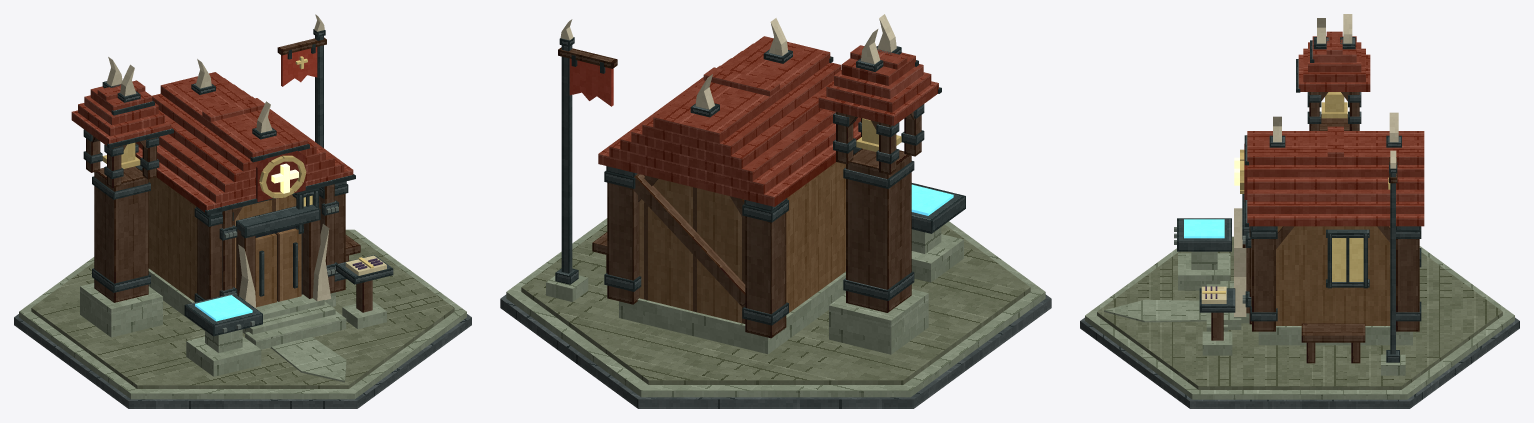
Rendered from orc_sacred_temple_hex_v1.glb.
3 views of the same model, side by side, from view 1: azimuth 30°, elevation 25°; view 2: azimuth 150°, elevation 25°; view 3: azimuth 270°, elevation 25° (orthographic). The views are drawn at different scales.
Visible parts, largest first — view 1: Orc_Sacred_Temple_Hex_V1_Foundation, Orc_Sacred_Temple_Hex_V1_Hall, Orc_Sacred_Temple_Hex_V1_Roofs, Orc_Sacred_Temple_Hex_V1_Training, Orc_Sacred_Temple_Hex_V1_Details, Orc_Sacred_Temple_Hex_V1_Courtyard, Orc_Sacred_Temple_Hex_V1_Faction, Orc_Sacred_Temple_Hex_V1_Focus; view 2: Orc_Sacred_Temple_Hex_V1_Hall, Orc_Sacred_Temple_Hex_V1_Foundation, Orc_Sacred_Temple_Hex_V1_Roofs, Orc_Sacred_Temple_Hex_V1_Faction, Orc_Sacred_Temple_Hex_V1_Details, Orc_Sacred_Temple_Hex_V1_Training, Orc_Sacred_Temple_Hex_V1_Focus; view 3: Orc_Sacred_Temple_Hex_V1_Foundation, Orc_Sacred_Temple_Hex_V1_Roofs, Orc_Sacred_Temple_Hex_V1_Hall, Orc_Sacred_Temple_Hex_V1_Training, Orc_Sacred_Temple_Hex_V1_Details, Orc_Sacred_Temple_Hex_V1_Courtyard, Orc_Sacred_Temple_Hex_V1_Faction, Orc_Sacred_Temple_Hex_V1_Focus.
Part boxes in pixels (left/top/right/bottom): Orc_Sacred_Temple_Hex_V1_Foundation: left=14, top=229, right=471, bottom=408; Orc_Sacred_Temple_Hex_V1_Hall: left=80, top=129, right=348, bottom=337; Orc_Sacred_Temple_Hex_V1_Roofs: left=71, top=72, right=355, bottom=215; Orc_Sacred_Temple_Hex_V1_Training: left=184, top=235, right=393, bottom=376; Orc_Sacred_Temple_Hex_V1_Details: left=106, top=57, right=346, bottom=308; Orc_Sacred_Temple_Hex_V1_Courtyard: left=242, top=294, right=346, bottom=382; Orc_Sacred_Temple_Hex_V1_Faction: left=277, top=14, right=326, bottom=147; Orc_Sacred_Temple_Hex_V1_Focus: left=102, top=142, right=306, bottom=201; Orc_Sacred_Temple_Hex_V1_Hall: left=604, top=104, right=928, bottom=354; Orc_Sacred_Temple_Hex_V1_Foundation: left=500, top=218, right=1051, bottom=408; Orc_Sacred_Temple_Hex_V1_Roofs: left=598, top=36, right=941, bottom=206; Orc_Sacred_Temple_Hex_V1_Faction: left=546, top=19, right=617, bottom=301; Orc_Sacred_Temple_Hex_V1_Details: left=606, top=14, right=896, bottom=306; Orc_Sacred_Temple_Hex_V1_Training: left=592, top=183, right=965, bottom=282; Orc_Sacred_Temple_Hex_V1_Focus: left=856, top=118, right=901, bottom=151; Orc_Sacred_Temple_Hex_V1_Foundation: left=1080, top=236, right=1519, bottom=408; Orc_Sacred_Temple_Hex_V1_Roofs: left=1244, top=31, right=1424, bottom=226; Orc_Sacred_Temple_Hex_V1_Hall: left=1242, top=92, right=1421, bottom=345; Orc_Sacred_Temple_Hex_V1_Training: left=1174, top=218, right=1365, bottom=363; Orc_Sacred_Temple_Hex_V1_Details: left=1234, top=14, right=1420, bottom=324; Orc_Sacred_Temple_Hex_V1_Courtyard: left=1104, top=281, right=1249, bottom=331; Orc_Sacred_Temple_Hex_V1_Faction: left=1381, top=150, right=1405, bottom=375; Orc_Sacred_Temple_Hex_V1_Focus: left=1234, top=92, right=1347, bottom=201.
Bounding box in the file's own units: 1.59 × 1.22 × 1.84.
Materials: 1 (1 with a texture image).
